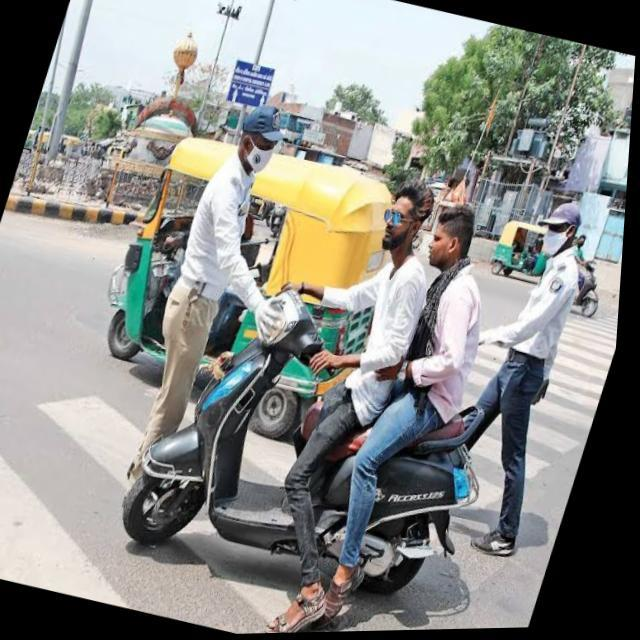Nonhelmet: (370, 177, 430, 262), (419, 195, 476, 276)
